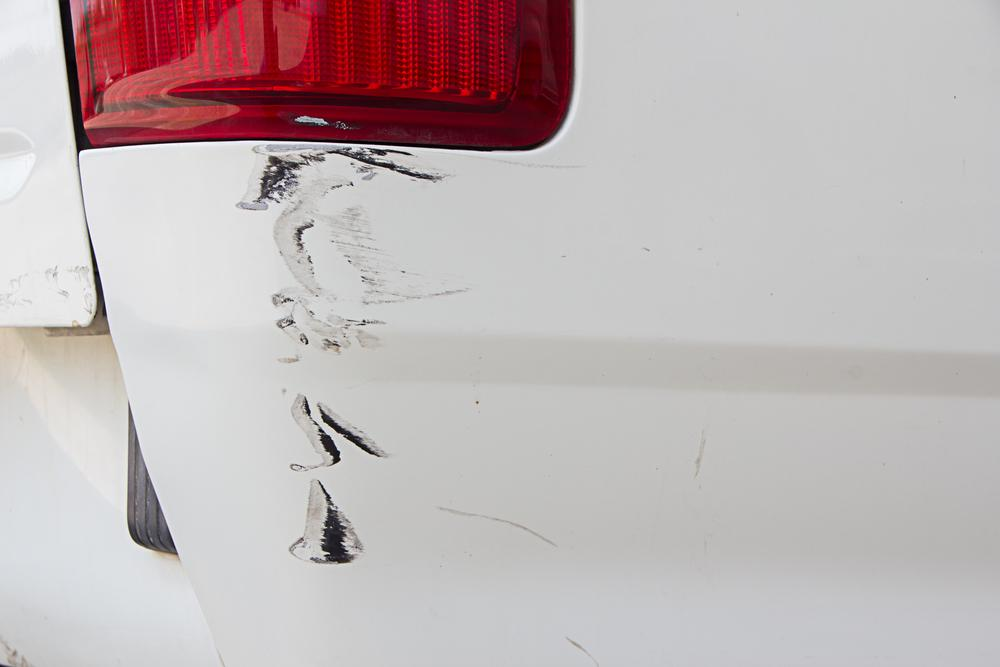scratch: (225, 136, 479, 571)
